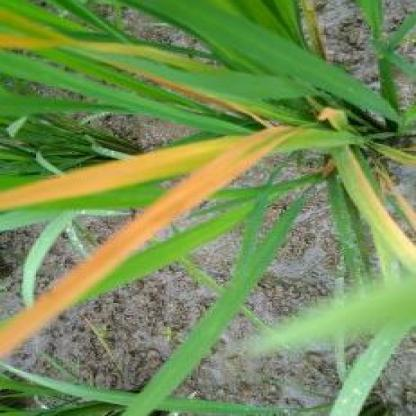Tungro: (1, 126, 307, 358), (1, 134, 266, 212)
